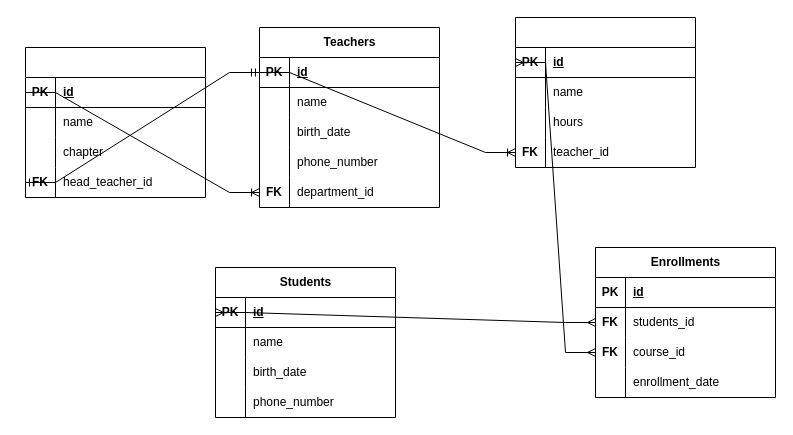
Some shapes in this 793 by 435 pixel diagram are drawn without their labels. Each missing label, with the box of its shape:
Courses: (514, 16, 696, 168)
Departments: (24, 46, 206, 198)
